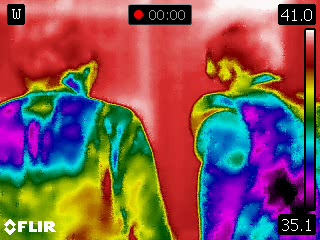human: (1, 33, 172, 240), (190, 21, 320, 240)
